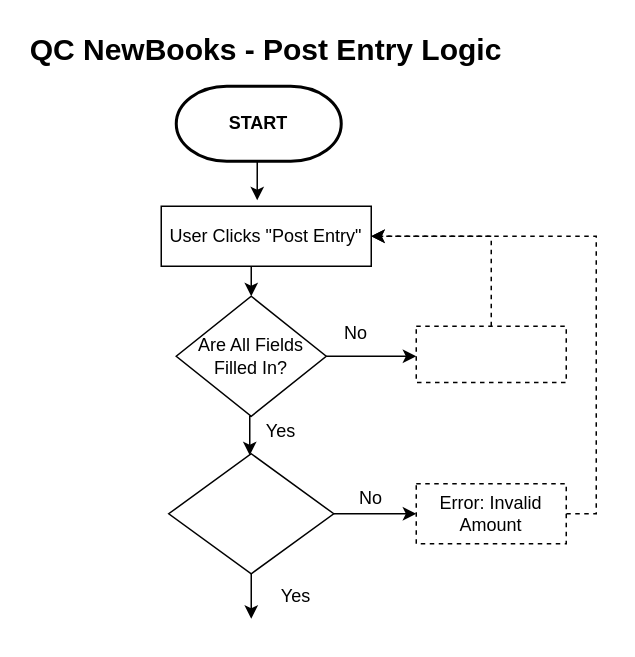
This 635x657 diagram has some shape labels left out. The shapes that lost their labels are listed below. From the top down, each one's centre as x and y in pixels, then its label:
point (490, 353): Error: Missing Fields
point (250, 513): Is The Amount Greater Than Zero?
